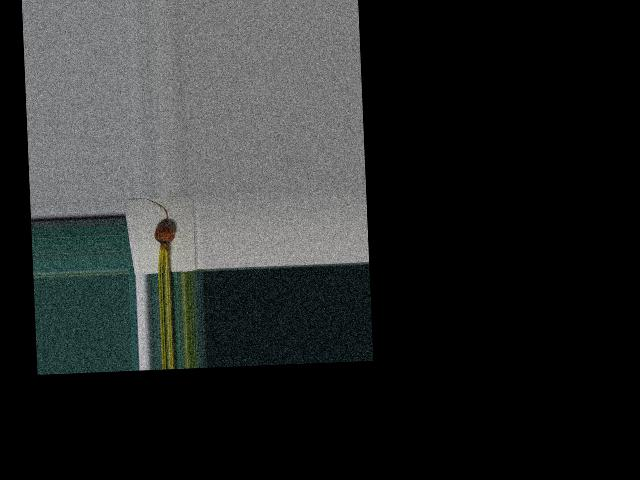beet: (147, 197, 176, 273)
